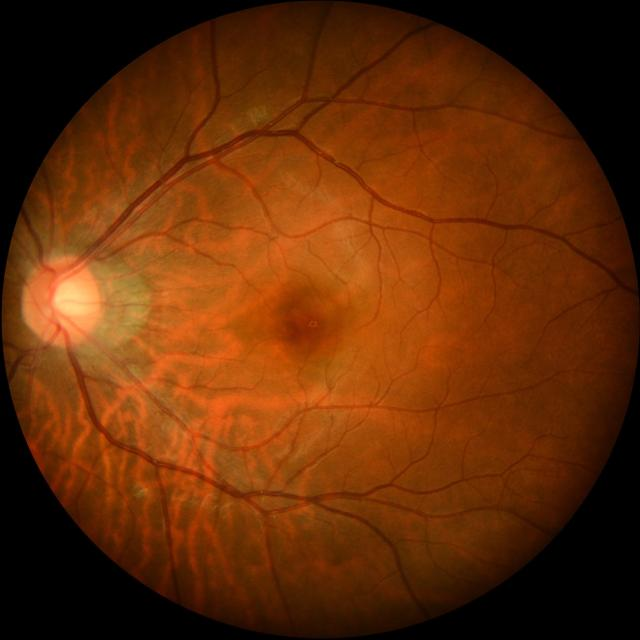OC: (51, 280, 88, 316)
OD: (23, 256, 100, 345)
